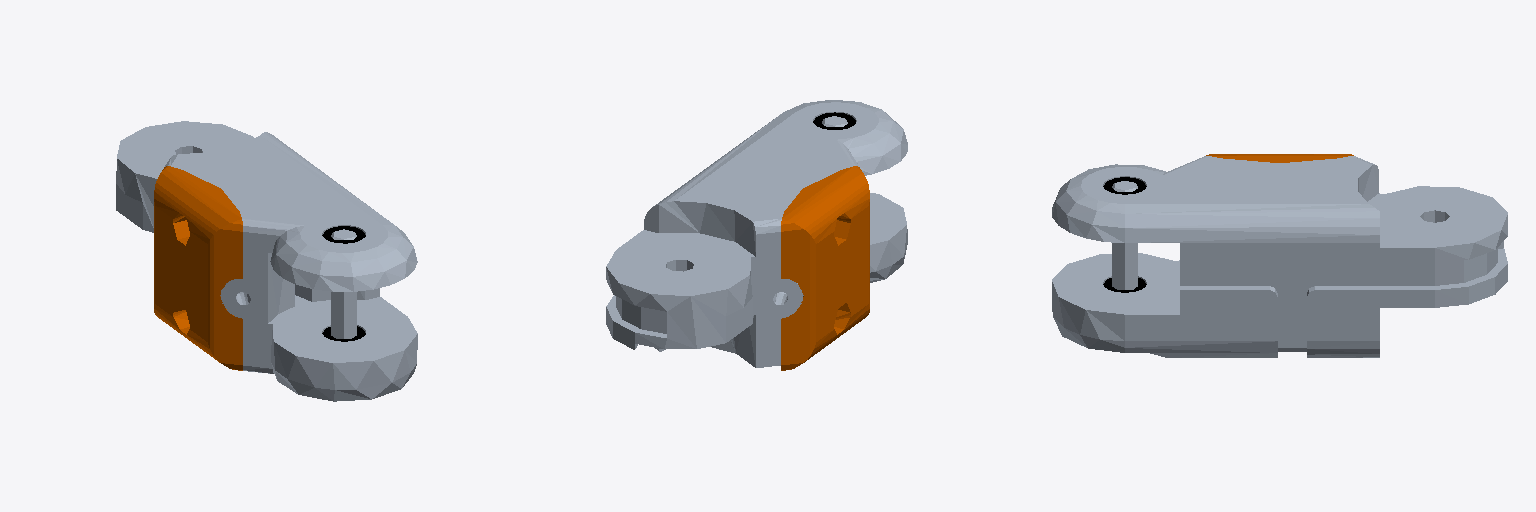
Rendered from fingerpart_l.obj.
3 renders of one model, left to right at view 1: azimuth 30°, elevation 25°; view 2: azimuth 150°, elevation 25°; view 3: azimuth 270°, elevation 25°, orthographic.
Bounding box in the file's own units: 0.0175 × 0.017 × 0.0464.